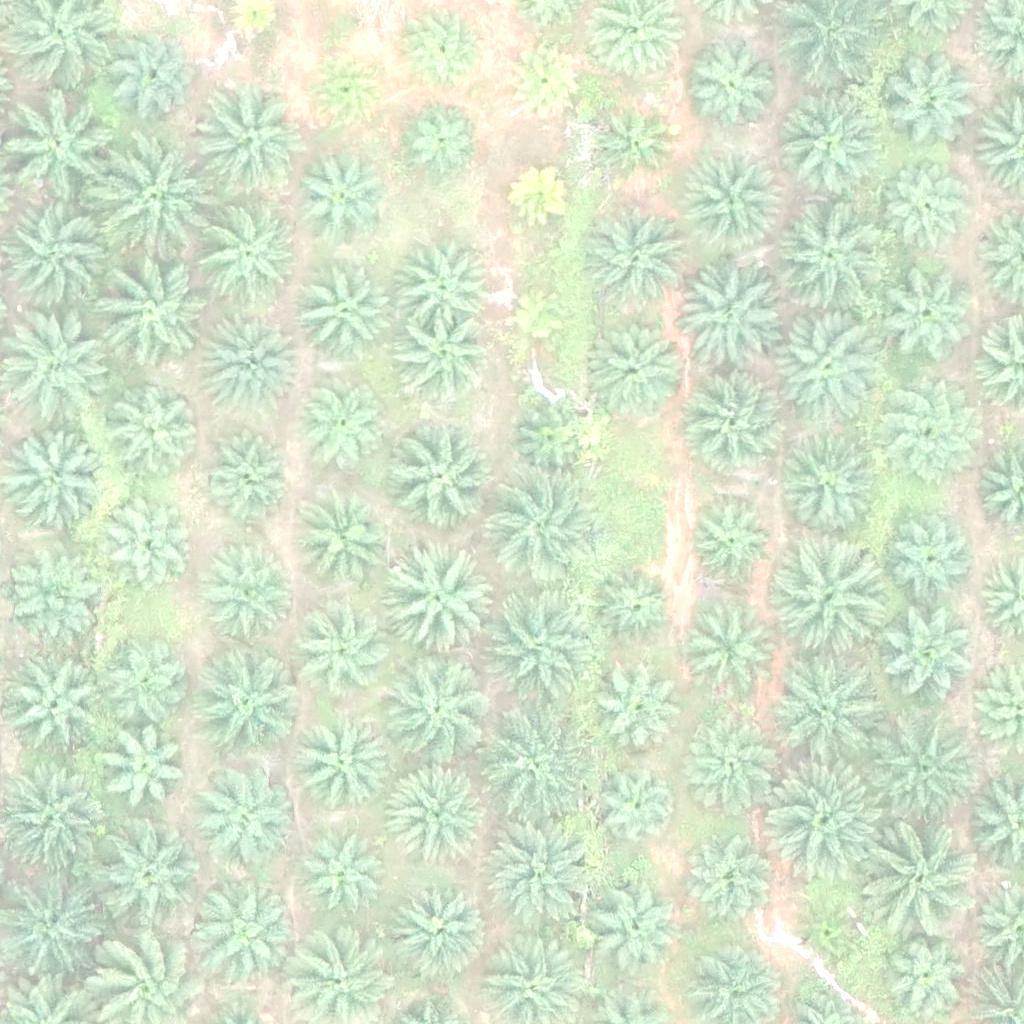Kelapa_Sawit: (864, 819, 977, 933), (773, 314, 886, 428), (580, 198, 693, 312), (487, 591, 600, 705), (384, 419, 497, 533), (776, 196, 889, 309), (773, 533, 886, 646), (678, 264, 791, 377), (377, 547, 490, 660), (96, 146, 209, 259), (2, 95, 115, 208), (867, 712, 979, 825), (772, 654, 884, 767), (769, 765, 881, 878), (490, 470, 602, 583), (478, 710, 590, 823), (486, 822, 598, 935), (380, 654, 492, 767), (92, 255, 204, 368), (89, 820, 201, 933), (193, 82, 305, 195), (873, 607, 973, 708), (779, 434, 879, 535), (679, 151, 779, 252), (692, 374, 792, 475), (593, 315, 693, 416), (393, 235, 493, 336), (391, 880, 491, 981), (287, 148, 387, 249), (294, 264, 394, 365), (294, 488, 394, 589), (296, 605, 396, 706), (292, 716, 392, 817), (200, 204, 300, 305), (197, 537, 297, 638), (196, 656, 296, 757), (193, 765, 293, 866), (105, 377, 205, 478), (5, 432, 105, 533), (9, 661, 109, 762), (881, 50, 981, 151), (678, 42, 778, 143), (875, 156, 975, 256), (390, 763, 490, 863), (196, 319, 296, 419), (198, 888, 298, 988), (1, 544, 101, 644), (783, 93, 883, 193), (297, 386, 385, 475), (882, 399, 970, 487), (881, 269, 969, 357), (687, 720, 775, 808), (596, 671, 684, 759), (592, 765, 680, 853), (510, 400, 598, 488), (402, 315, 490, 403), (202, 430, 290, 518), (401, 3, 489, 91), (401, 95, 489, 183), (499, 35, 587, 123), (114, 28, 202, 116), (688, 501, 775, 590), (304, 831, 391, 920), (889, 514, 976, 602), (692, 616, 779, 704), (685, 836, 772, 924), (591, 568, 678, 656), (592, 882, 679, 970), (103, 498, 190, 586), (103, 639, 190, 727), (100, 727, 187, 815), (302, 45, 389, 133), (592, 95, 679, 183), (504, 157, 579, 233), (800, 904, 863, 967), (509, 286, 571, 349)
